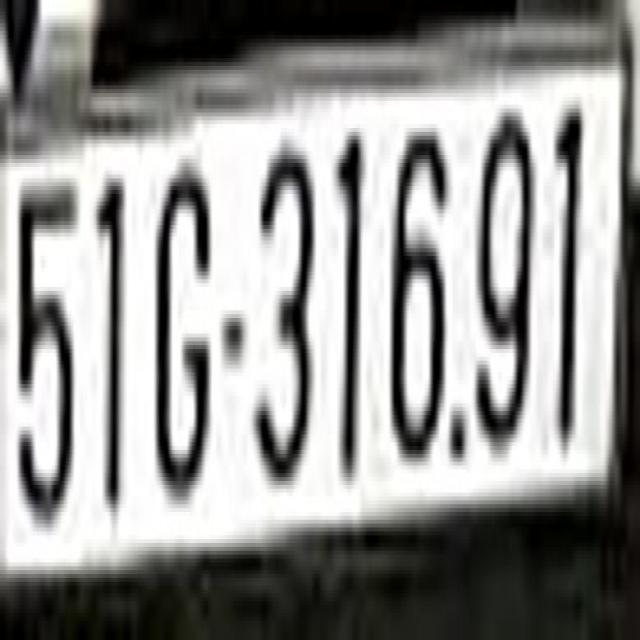1: (548, 101, 585, 458), (96, 156, 126, 532), (340, 132, 362, 481)
3: (258, 140, 311, 484)
5: (16, 186, 76, 512)
6: (390, 109, 448, 477)
9: (478, 97, 534, 462)
G: (152, 155, 212, 508)
